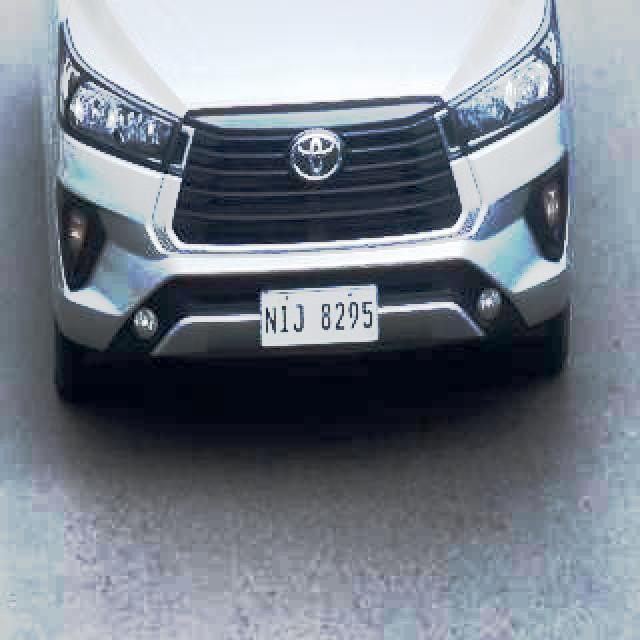license_plate: (259, 284, 379, 349)
